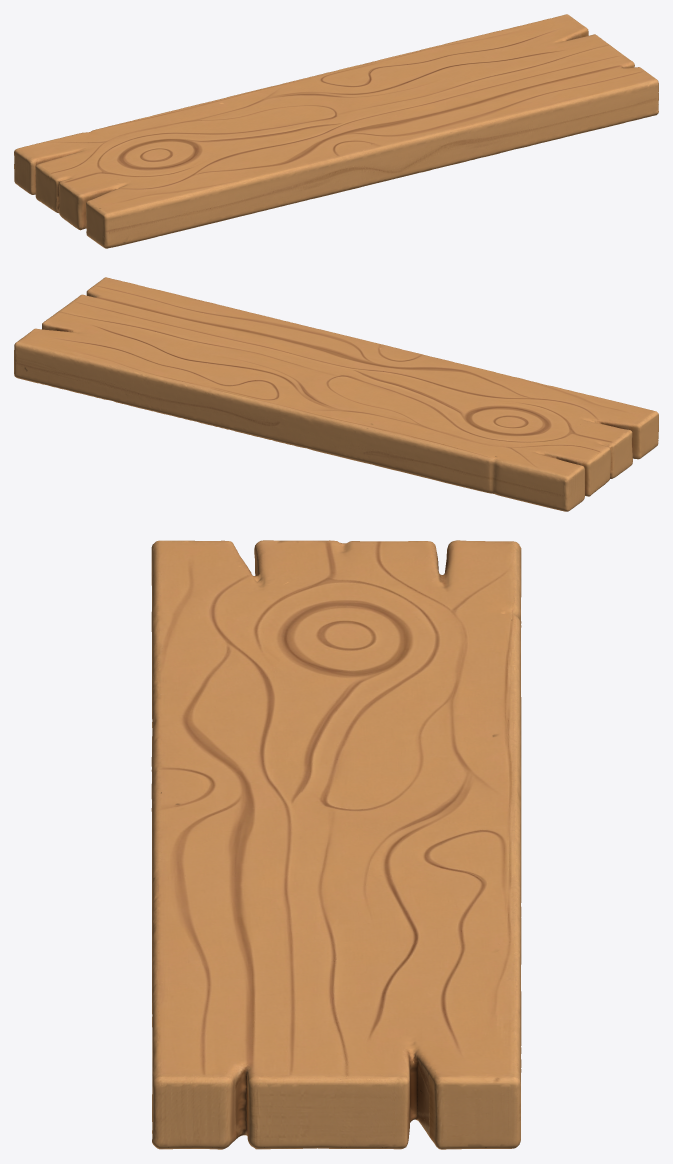
File: Meshy_AI_Wooden_plank_with_wav_0715095436_texture.fbx
3 views of the same model, one above another, from view 1: azimuth 30°, elevation 25°; view 2: azimuth 150°, elevation 25°; view 3: azimuth 270°, elevation 25° (orthographic). The views are drawn at different scales.
Parts seen in each view (by area): view 1: Mesh_0; view 2: Mesh_0; view 3: Mesh_0.
Boxes of the visible parts, x1=… form: Mesh_0: x1=14, y1=14, x2=658, y2=248; Mesh_0: x1=14, y1=277, x2=658, y2=511; Mesh_0: x1=151, y1=540, x2=521, y2=1149.
Size of the model in its own units: 200 by 12.51 by 57.72.
Materials: 1 (1 with a texture image).
